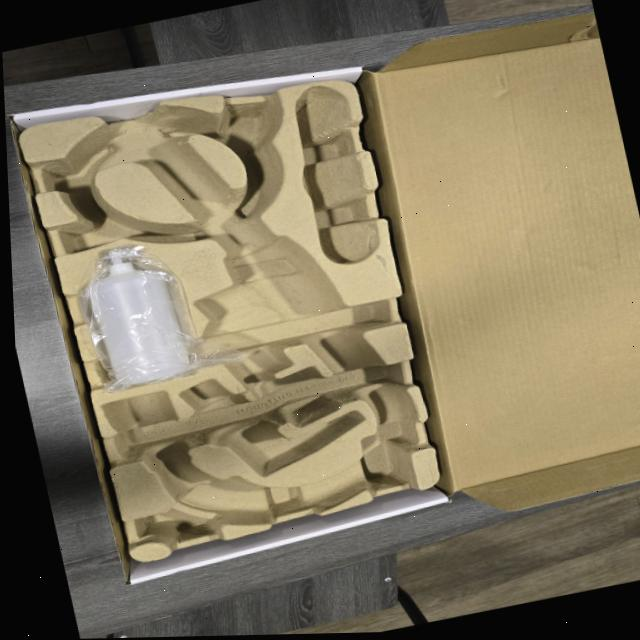1m: (102, 104, 418, 524)
2m: (183, 379, 361, 476)
3: (85, 246, 198, 388)
4m: (295, 85, 382, 261)
5m: (219, 103, 277, 150)
6m: (46, 135, 117, 190)
7m: (60, 208, 134, 250)
